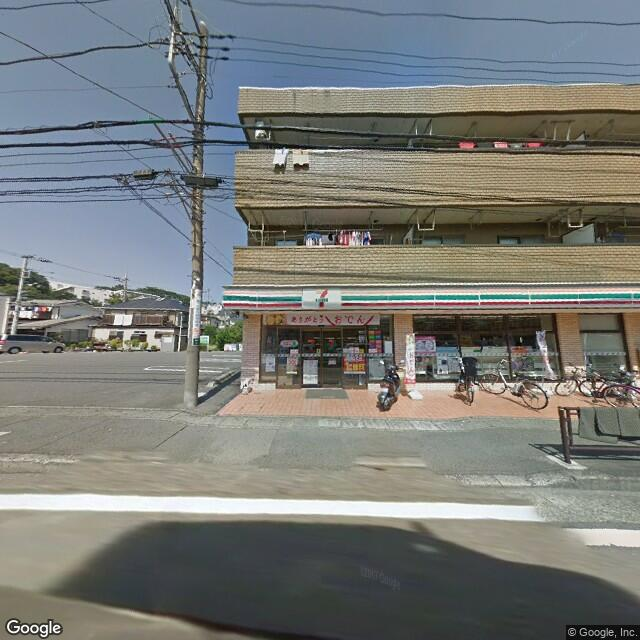7-eleven: (218, 280, 640, 318)
